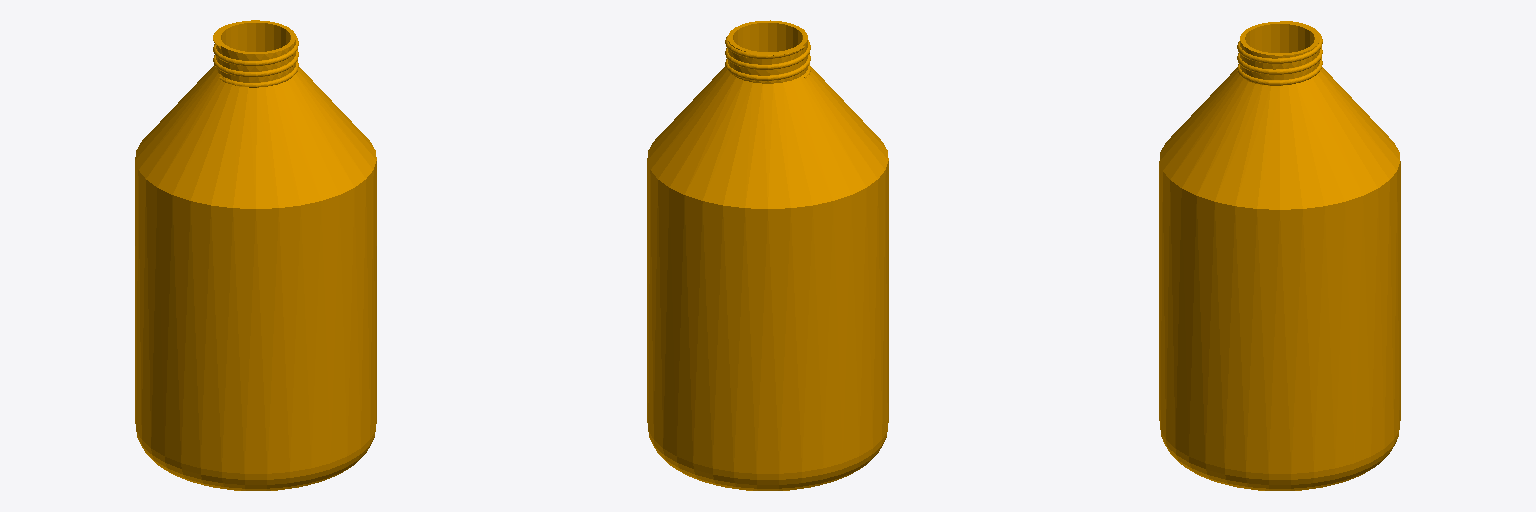
URDF robot description (bottle_body):
<robot name="bottle_body">
  <link name="bottle_body_link">
    <visual>
      <origin xyz="0 0 0" rpy="0 0 0"/>
      <geometry>
        <mesh filename="bottle_body.obj" scale="0.1 0.1 0.1"/>
      </geometry>
    </visual>
    <collision>
      <origin xyz="0 0 0" rpy="0 0 0"/>
      <geometry>
        <mesh filename="bottle_body_coil.obj" scale="0.1 0.1 0.1"/>
      </geometry>
    </collision>
    <inertial>
      <origin xyz="0 0 0.047" rpy="0 0 0"/>
      <mass value="0.5"/>
      <inertia ixx="0.01" iyy="0.01" izz="0.01"
               ixy="0" ixz="0" iyz="0"/>
    </inertial>
  </link>
</robot>

--- What the picture shows (computed from the rendered views, not written in the file) ---
3 views of the same robot in one strip: view 1: azimuth 30°, elevation 25°; view 2: azimuth 150°, elevation 25°; view 3: azimuth 270°, elevation 25° (orthographic).
Robot: bottle_body — 1 links, 0 joints (none); root link bottle_body_link; default pose: all joints at 0.
Links seen in each view (by area): view 1: bottle_body_link; view 2: bottle_body_link; view 3: bottle_body_link.
Boxes of the visible links, box(x1,y1,x2,y2) form: bottle_body_link: box(135, 20, 376, 490); bottle_body_link: box(647, 20, 888, 490); bottle_body_link: box(1159, 21, 1400, 490).
Size in the robot's own frame: 0.6 by 0.5993 by 1.13 metres.
1 mesh visuals loaded from 1 distinct referenced files (1 OBJ).